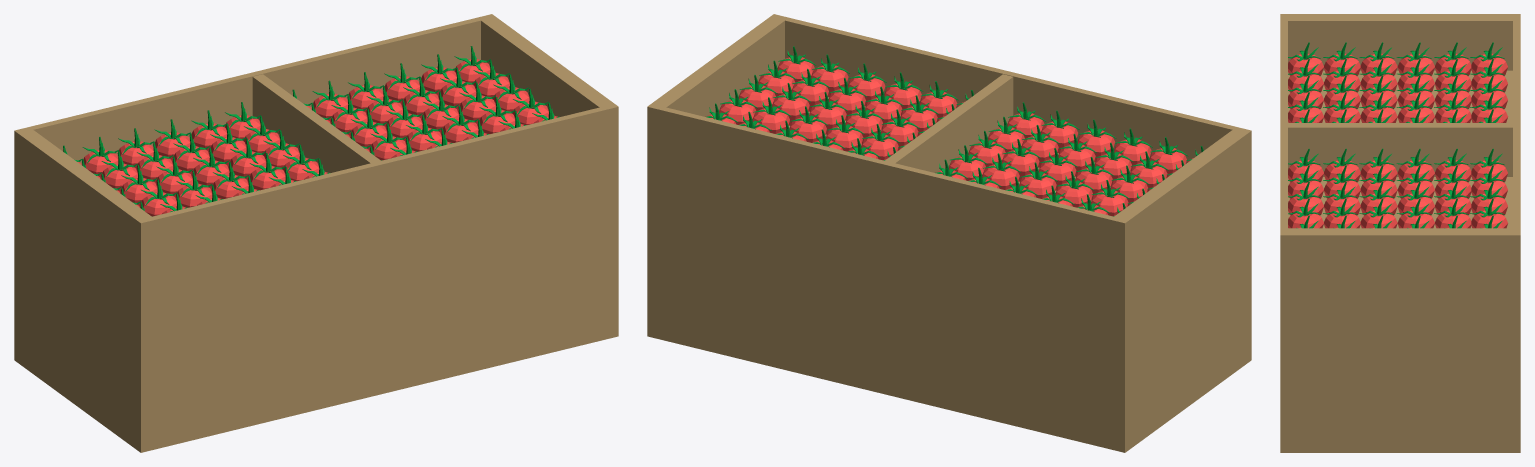
File: tomato_box.gltf
The picture shows the model from 3 angles, left to right: view 1: azimuth 30°, elevation 25°; view 2: azimuth 150°, elevation 25°; view 3: azimuth 270°, elevation 25°; orthographic projection. The views are drawn at different scales.
Visible parts, largest first — view 1: tomato_001.035; view 2: tomato_001.035; view 3: tomato_001.035.
Part boxes in pixels (x1=…): tomato_001.035: x1=14, y1=14, x2=618, y2=452; tomato_001.035: x1=647, y1=14, x2=1251, y2=452; tomato_001.035: x1=1280, y1=14, x2=1520, y2=452.
Size of the model in its own units: 9.22 by 4.23 by 4.23.
2 materials, 1 textured.
